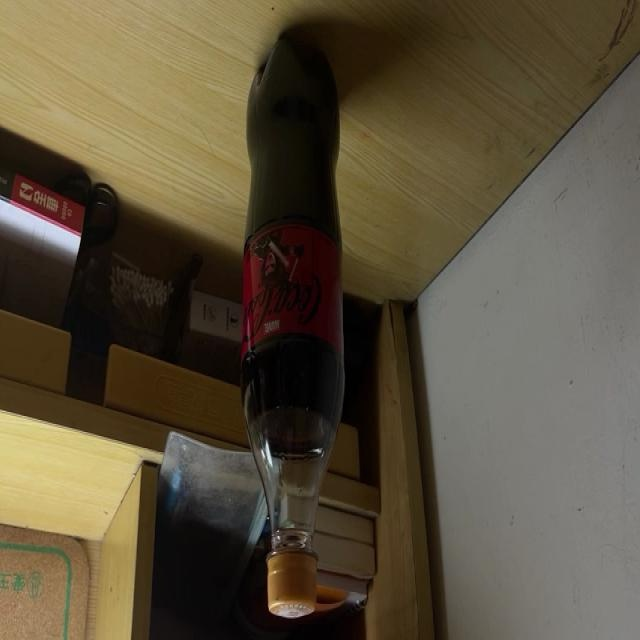Coca-Cola: (242, 36, 344, 618)
